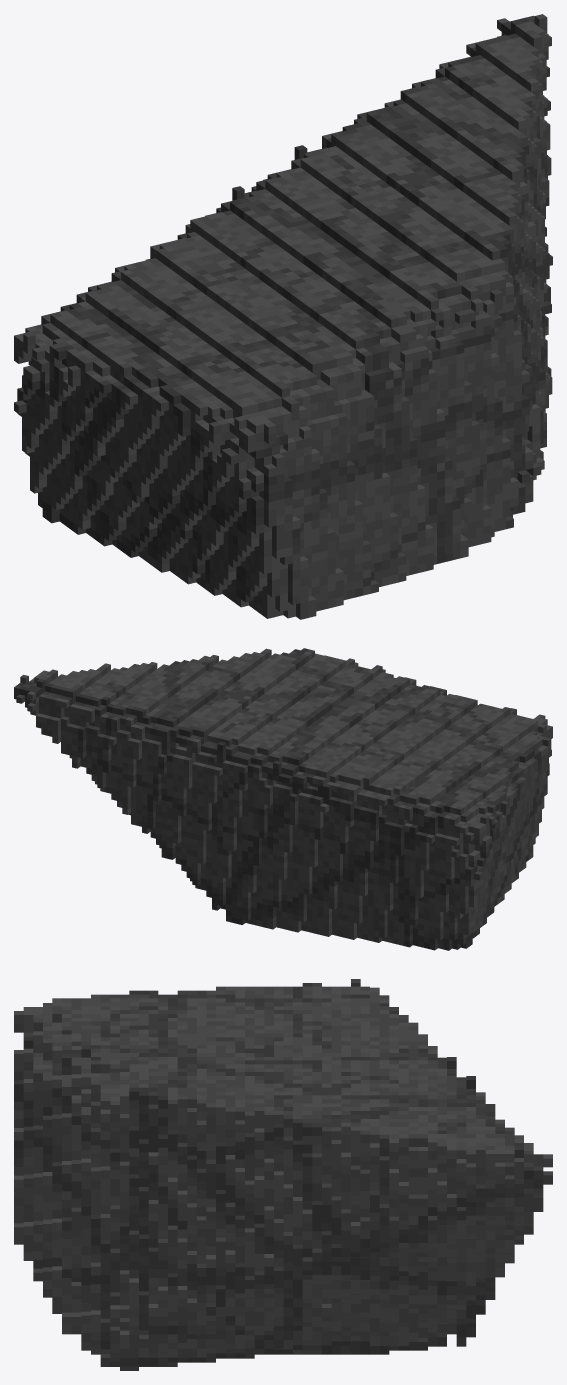
Rendered from Rocas-0.obj.
The picture shows the model from 3 angles, top to bottom: view 1: azimuth 30°, elevation 25°; view 2: azimuth 150°, elevation 25°; view 3: azimuth 270°, elevation 25°; orthographic projection. The views are drawn at different scales.
Size of the model in its own units: 7.5 by 3.7 by 5.6.
Materials: 1 (1 with a texture image).
